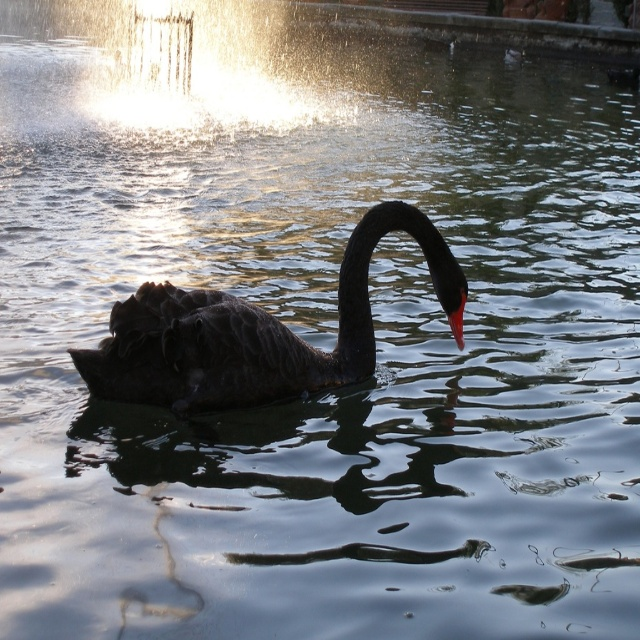Swan: (66, 200, 468, 422)
